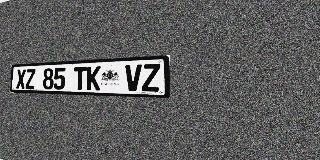plate: (10, 55, 170, 98)
